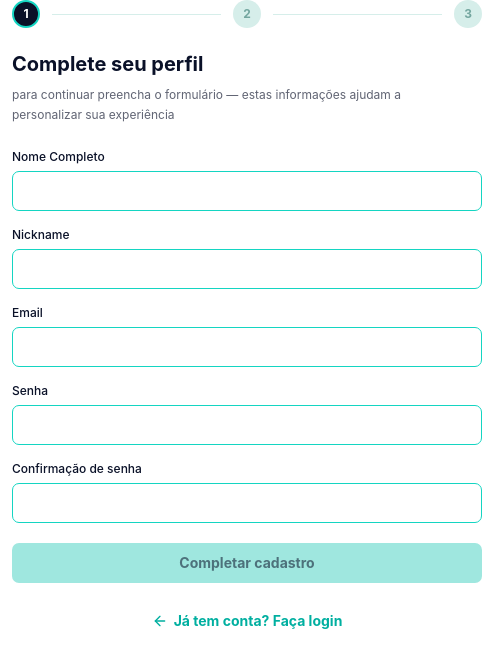
Scenario: RegisterStudentForm › permite voltar para a etapa anterior depois de avancar
The image size is (499, 646).
Type "Jose Bezerra Camargo" into the field labelled "Nome Completo".
click(247, 191); type("Jose Bezerra Camargo")  # box [12, 171, 482, 211]
Type "behhhhh" into the field labelled "Nickname".
click(247, 269); type("behhhhh")  # box [12, 249, 482, 289]
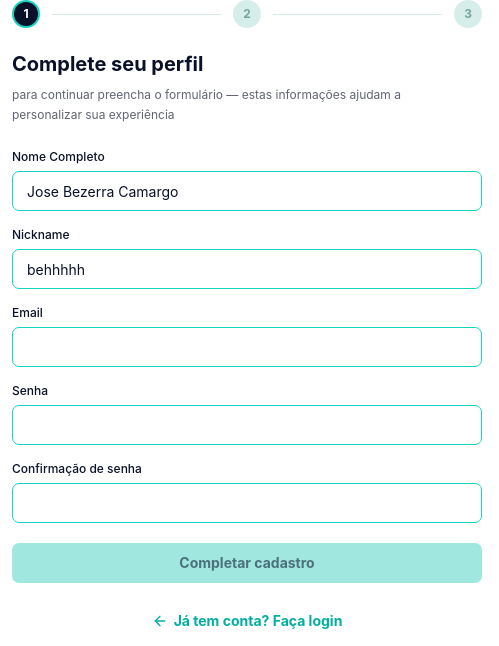
Type "bezerra@email.com" into the field labelled "Email".
click(247, 347); type("bezerra@email.com")  # box [12, 327, 482, 367]
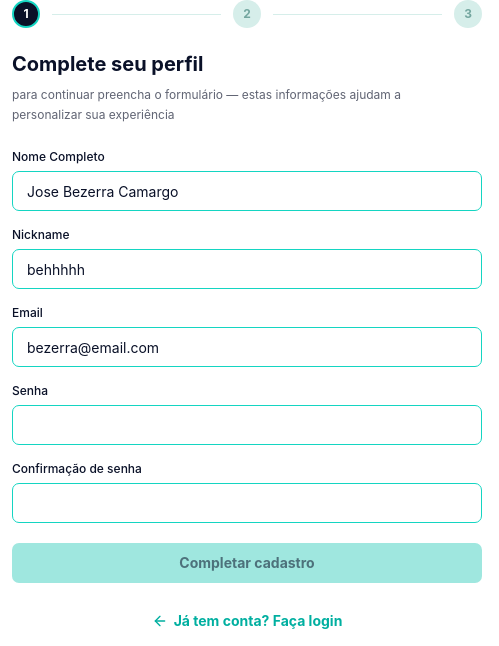
Type "password123" into the password field labelled "Senha".
click(247, 425); type("password123")  # box [12, 405, 482, 445]
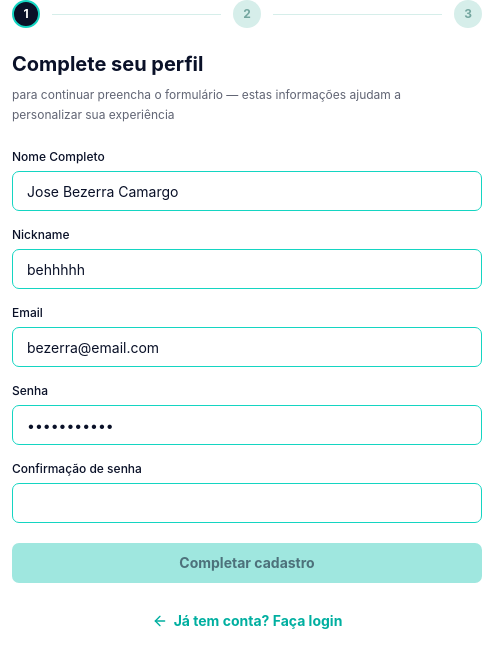
Type "password123" into the password field labelled "Confirmação de senha".
click(247, 503); type("password123")  # box [12, 483, 482, 523]
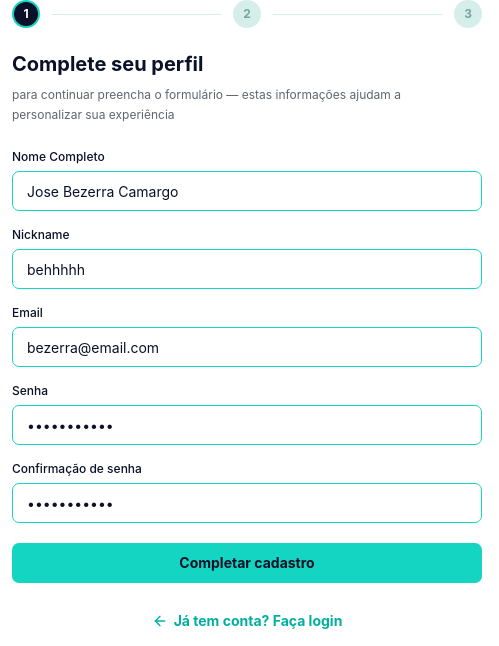
Click the button "Completar cadastro".
click(247, 563)  # box [12, 543, 482, 583]
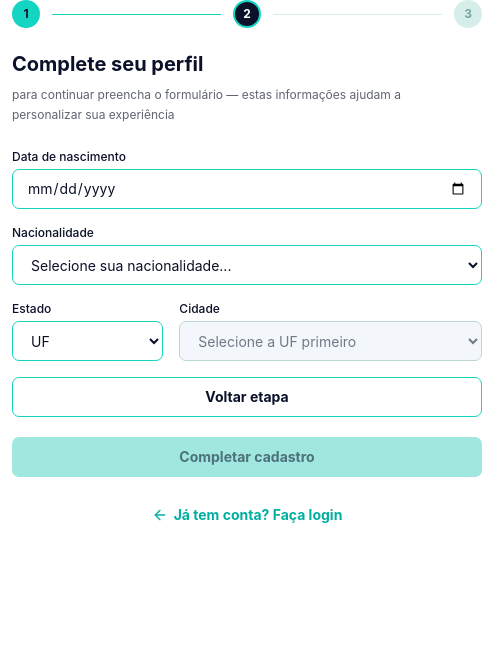
Expected: the date field labelled "Data de nascimento" is shown, [12, 169, 482, 209]
Click the button "Voltar etapa".
click(247, 397)  # box [12, 377, 482, 417]
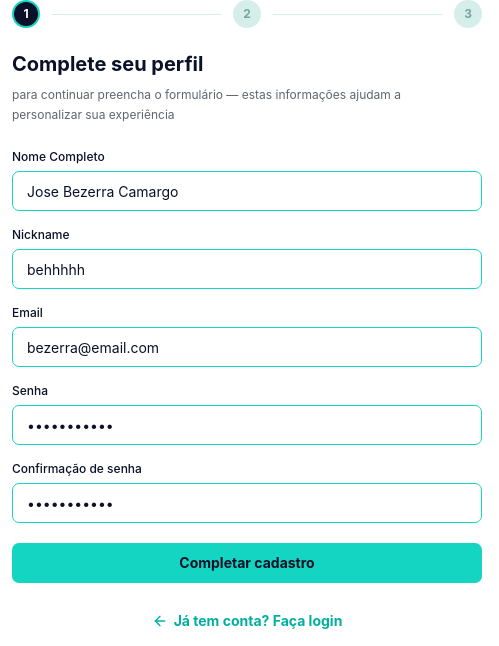
Expected: the field labelled "Nome Completo" holds "Jose Bezerra Camargo", [12, 171, 482, 211]
